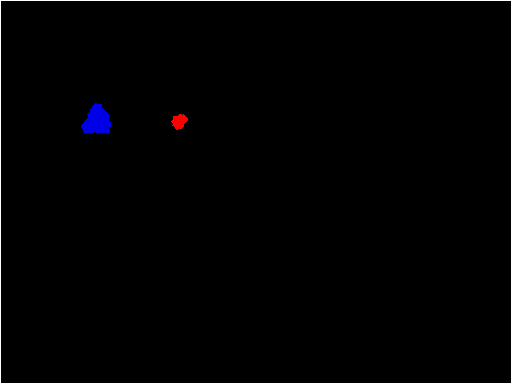chipped: (88, 108, 108, 132)
detached: (170, 116, 185, 128)
